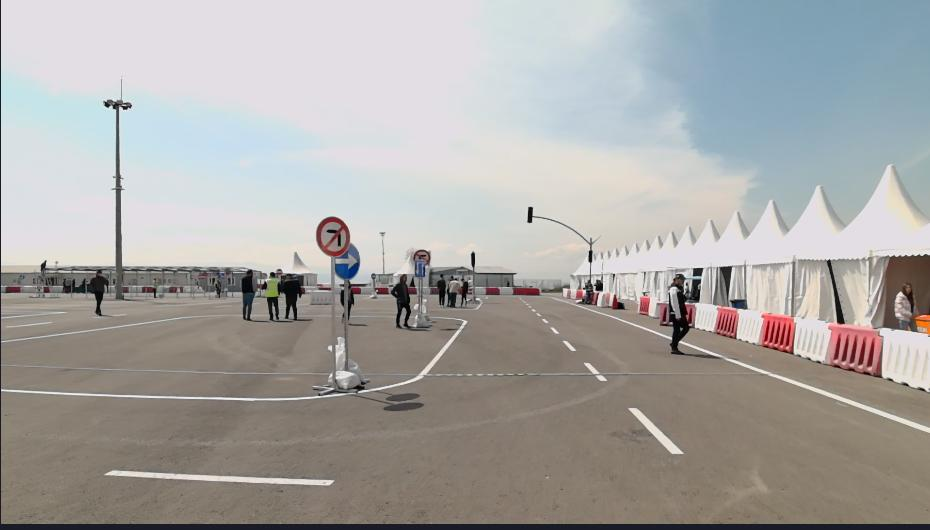nesne: (4, 295, 930, 527), (2, 296, 733, 525), (518, 294, 928, 523), (552, 295, 928, 433), (1, 321, 466, 400), (685, 301, 826, 363), (102, 77, 132, 297), (0, 311, 182, 341), (0, 315, 183, 340), (106, 468, 330, 486), (312, 335, 370, 395), (881, 328, 928, 394), (822, 324, 881, 374), (627, 406, 683, 454), (534, 215, 602, 249), (666, 273, 691, 351), (791, 317, 826, 362), (388, 273, 413, 328), (316, 215, 349, 256), (759, 314, 793, 352), (258, 272, 281, 319), (560, 288, 614, 308), (894, 278, 914, 330), (329, 256, 336, 388), (714, 305, 741, 339), (336, 242, 360, 280), (737, 310, 763, 343), (89, 269, 107, 315), (629, 294, 665, 316), (283, 273, 300, 318), (475, 286, 540, 297), (693, 303, 716, 333), (242, 269, 254, 320), (342, 279, 348, 367), (339, 281, 352, 320), (412, 299, 430, 326), (583, 360, 606, 380), (446, 274, 458, 307), (682, 277, 698, 301), (426, 312, 464, 322), (378, 229, 386, 272), (436, 273, 446, 306), (158, 286, 204, 293), (308, 291, 330, 305), (459, 277, 467, 306), (122, 284, 151, 292), (684, 302, 693, 326), (413, 251, 429, 264), (730, 296, 745, 309), (418, 275, 423, 313), (584, 280, 591, 306), (512, 289, 538, 296), (413, 262, 425, 275), (642, 296, 651, 313), (561, 340, 576, 350), (37, 260, 47, 274), (181, 286, 204, 292), (151, 276, 157, 296), (471, 268, 475, 298), (18, 285, 35, 292), (214, 281, 221, 297), (474, 286, 485, 296), (526, 207, 533, 222), (469, 252, 475, 269), (485, 288, 499, 295), (499, 288, 513, 295), (48, 285, 62, 292), (594, 279, 602, 290), (360, 288, 372, 295), (5, 286, 19, 292), (168, 286, 182, 292), (369, 290, 379, 298), (376, 287, 387, 294), (549, 326, 559, 333), (130, 286, 141, 292), (588, 250, 593, 263), (121, 285, 130, 292), (140, 286, 150, 292), (158, 286, 168, 292), (588, 262, 591, 281), (541, 317, 549, 324), (351, 288, 360, 294), (429, 288, 438, 294), (408, 288, 415, 295), (422, 288, 430, 294), (0, 285, 6, 293), (43, 284, 49, 292), (373, 278, 375, 296), (371, 273, 376, 279)
